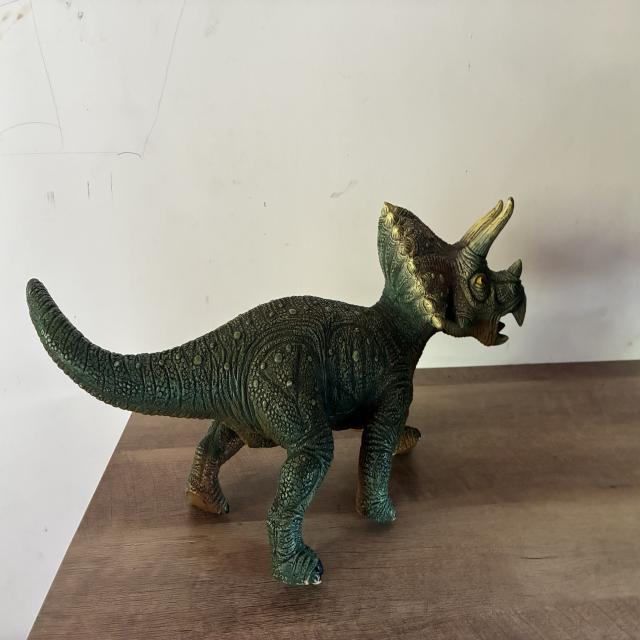dinosaur: (27, 198, 526, 584)
